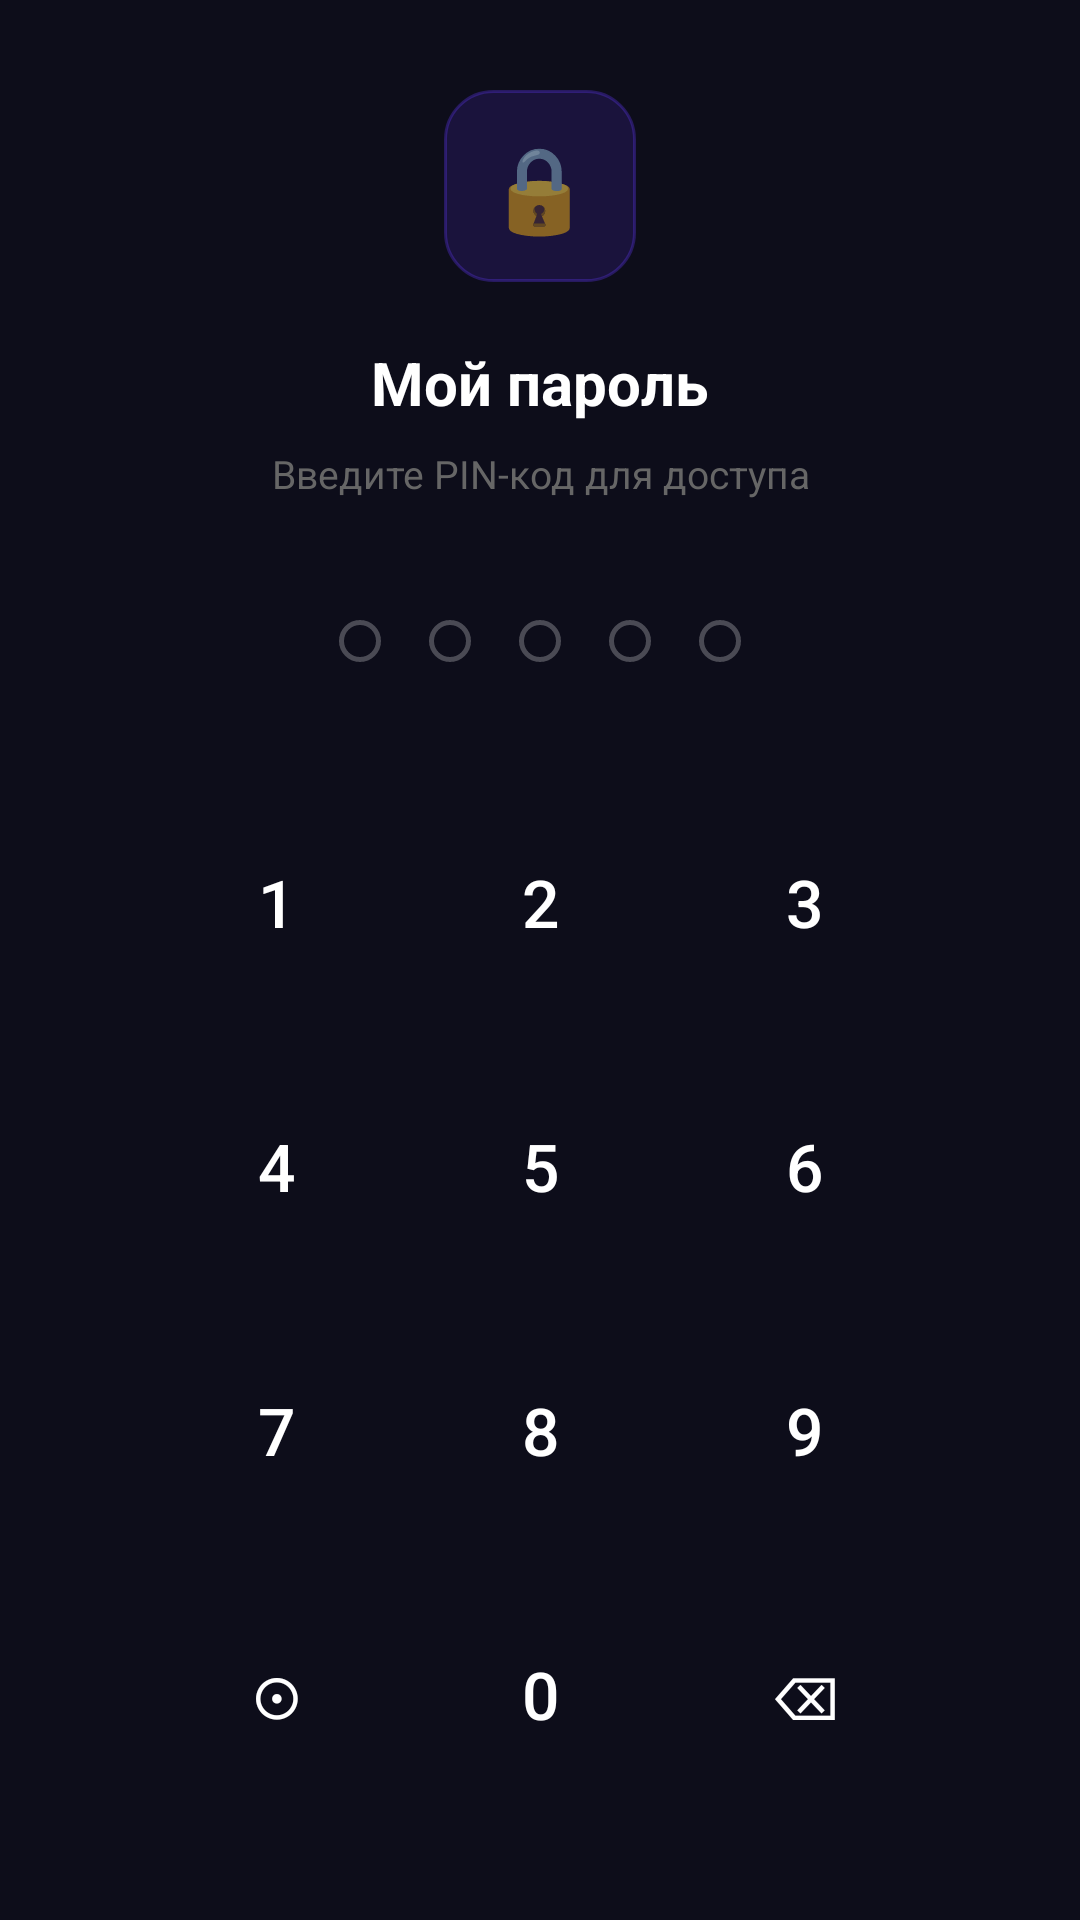

Screen size 1080x1920. Icon name, then its center in pixels as (x=x, y=y):
pin dot empty: (x=360, y=641), (x=450, y=641), (x=540, y=641), (x=630, y=641), (x=720, y=641)
